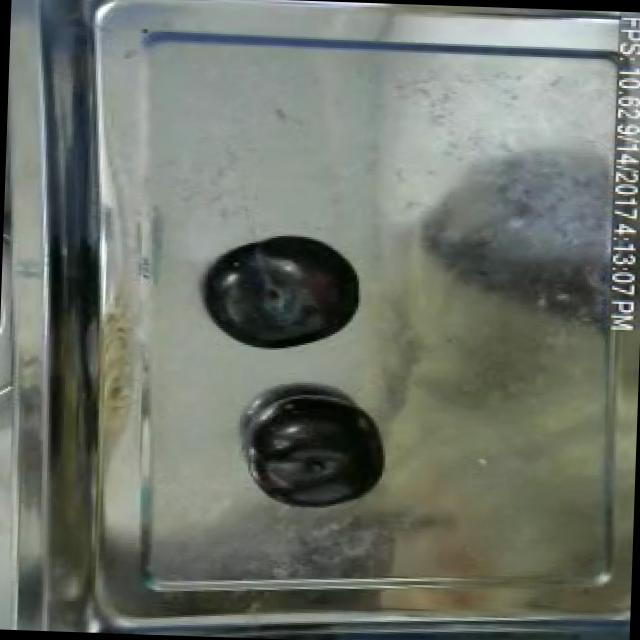Fruit: (198, 225, 368, 354), (246, 390, 390, 510)
